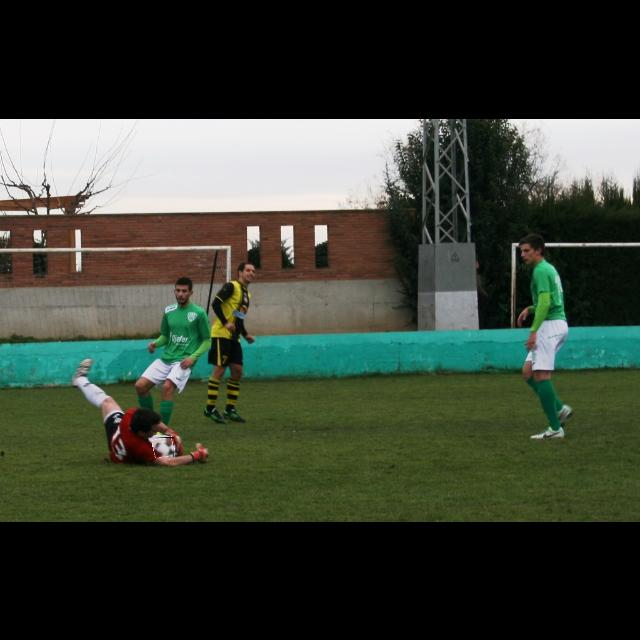Football: (154, 437, 174, 457)
